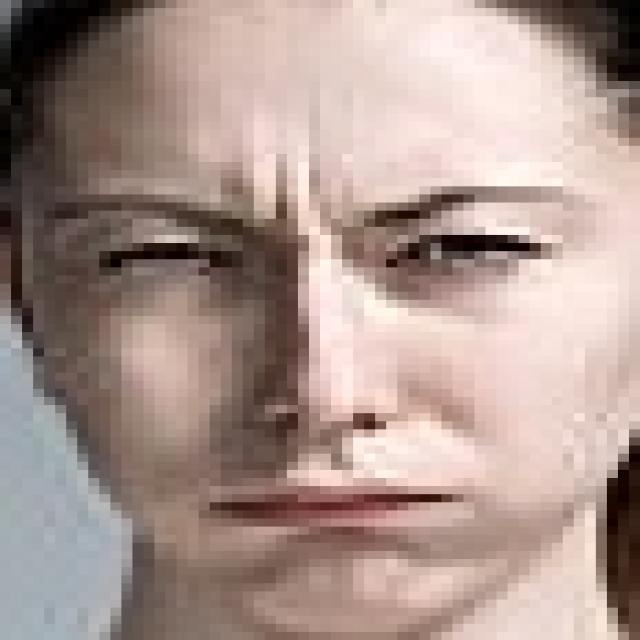Anxiety: (16, 0, 629, 632)
